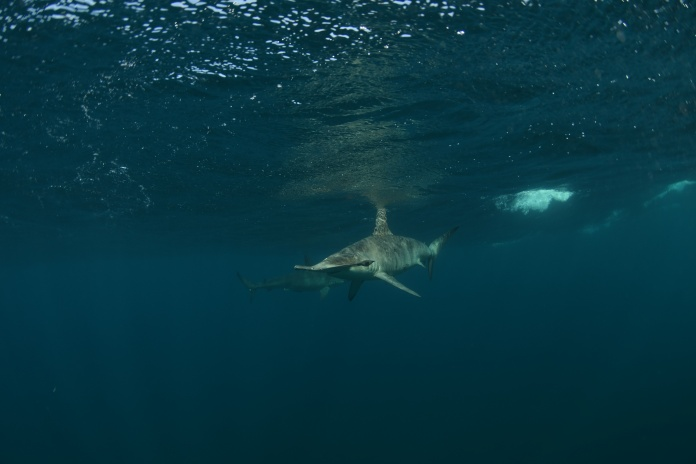Hammer: (264, 189, 481, 329)
